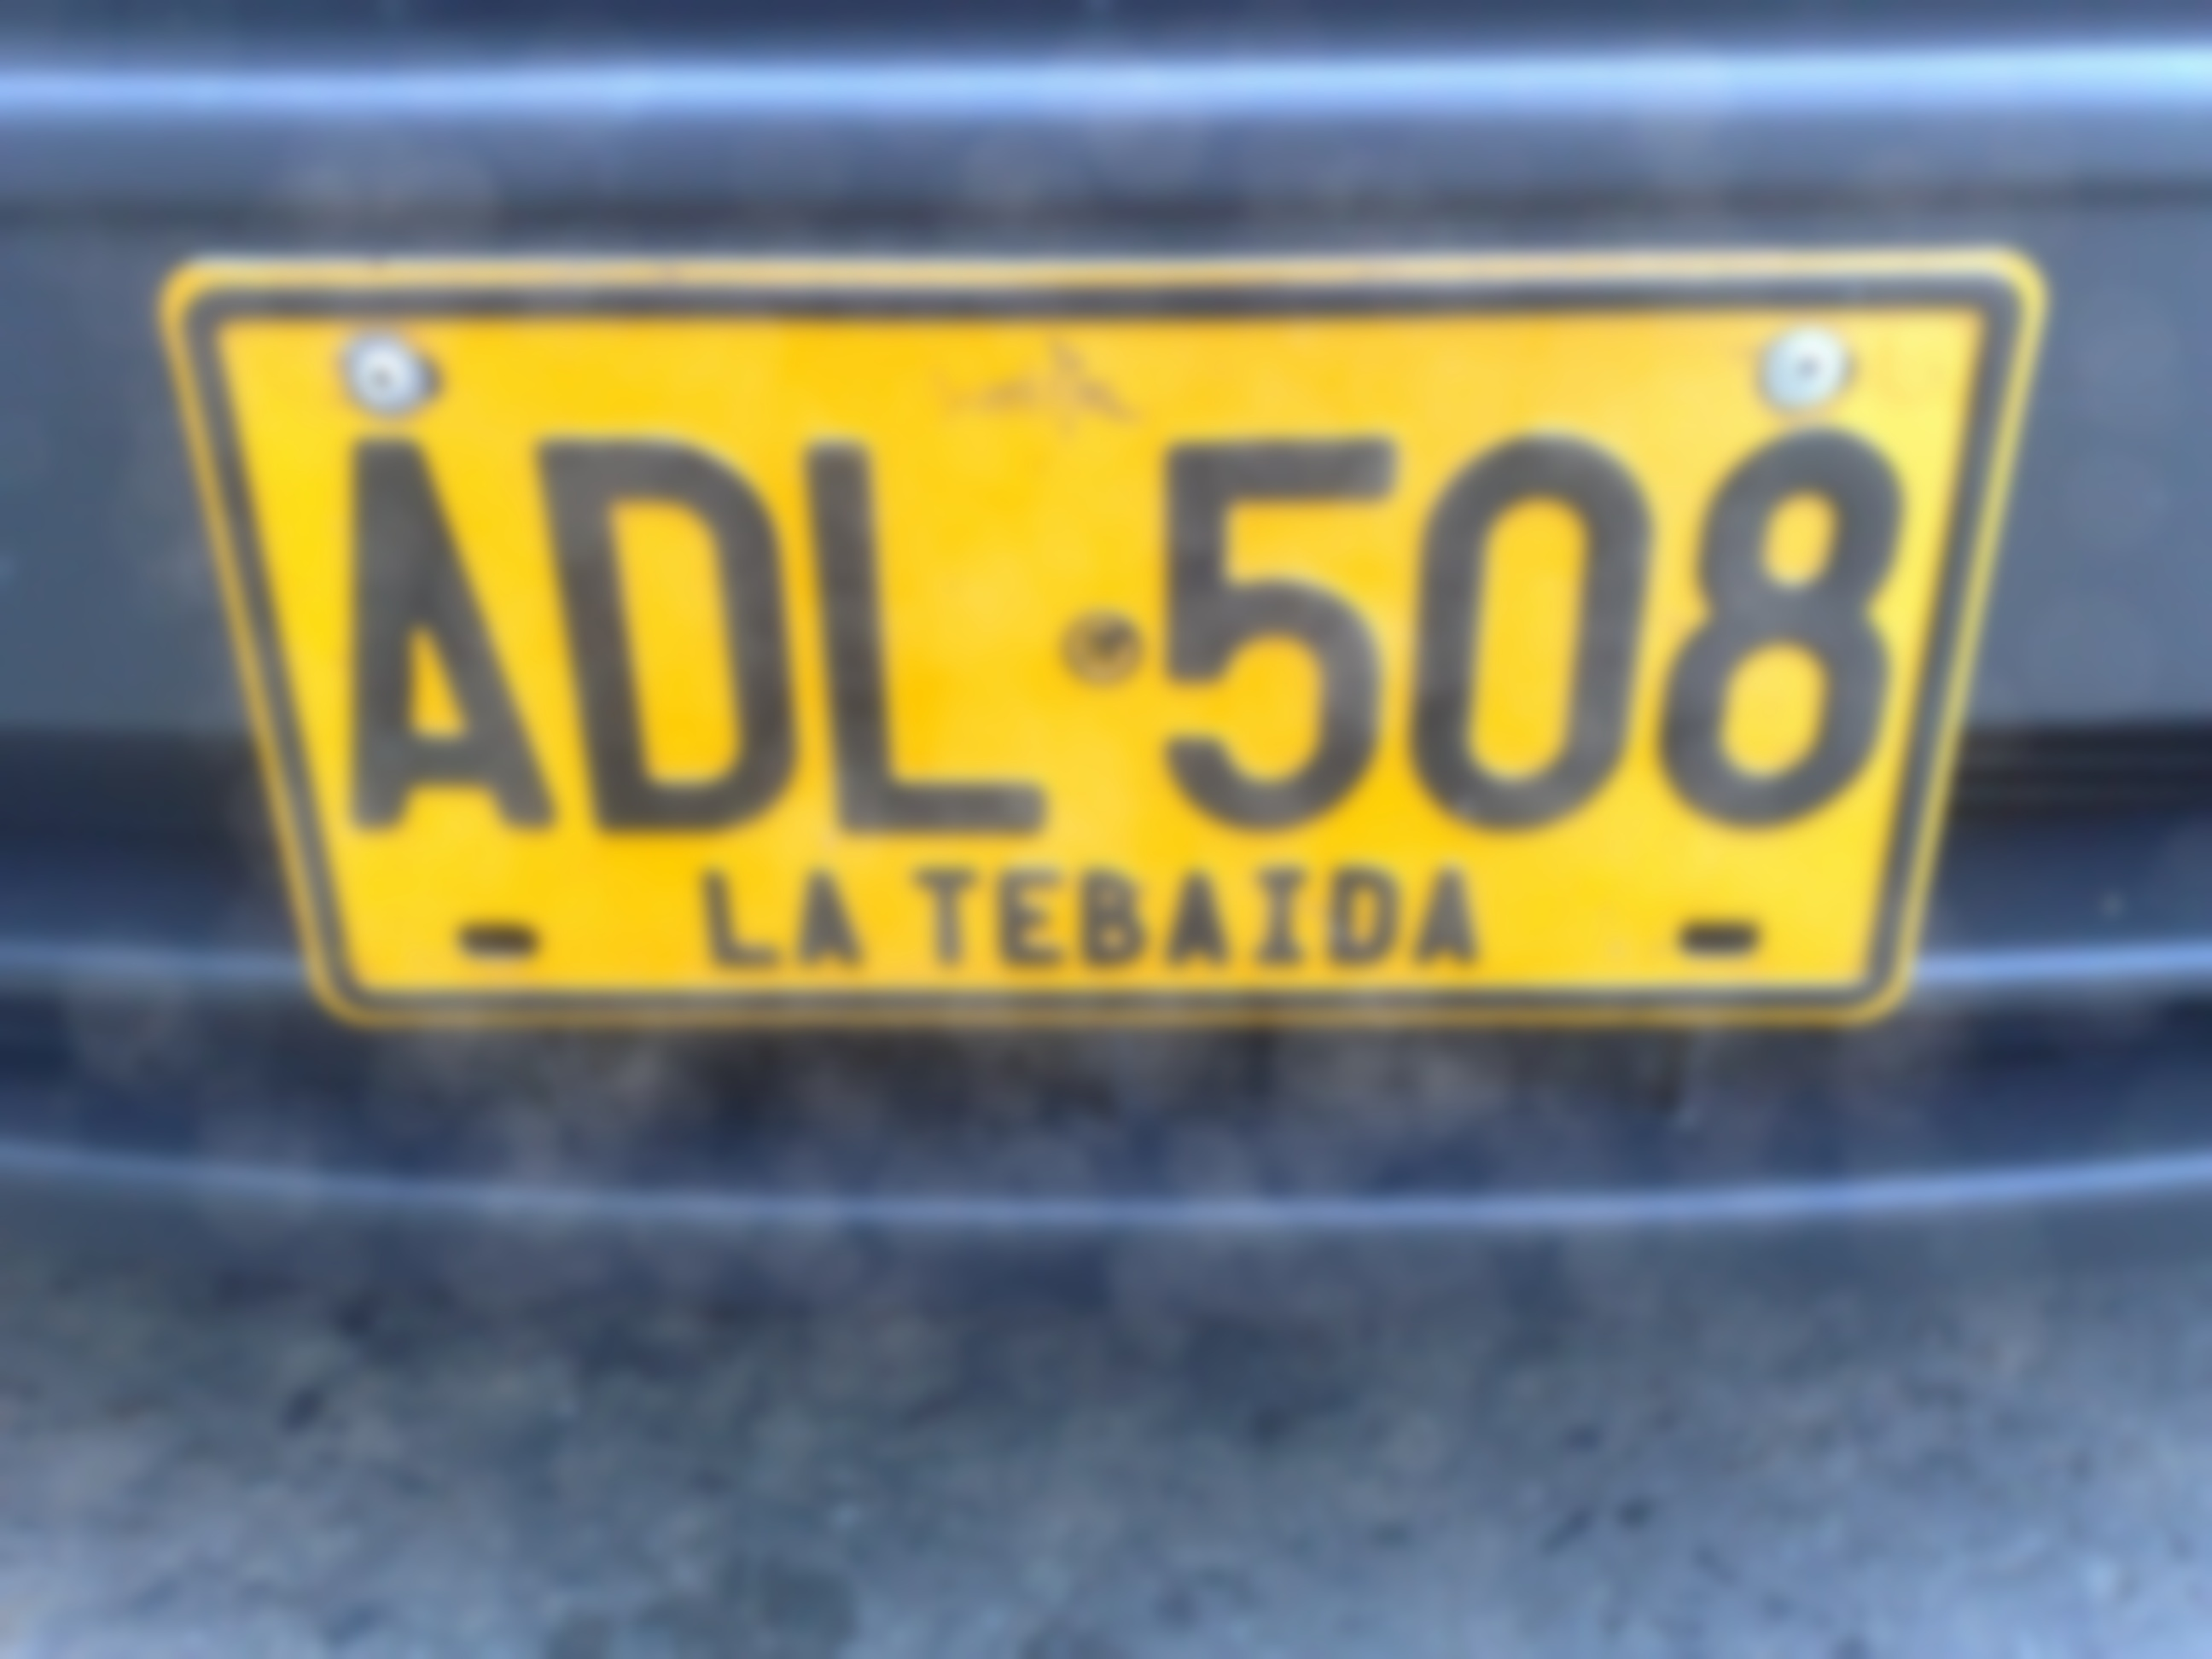placas: (152, 233, 2052, 1041)
